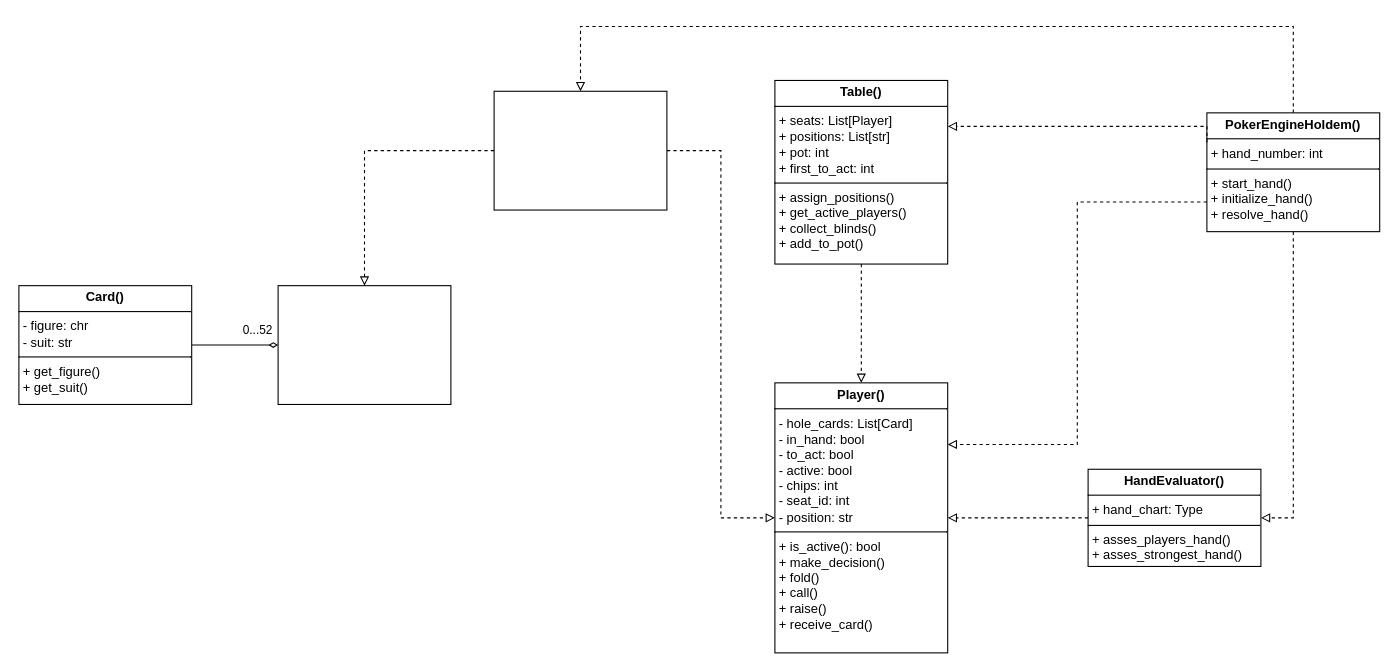
Image size: 1399x672. Some labels were removed from this diagram. The shapes that lost their labels are listed below. From the top down, each one's centre as x and y in pixels, then its label:
At point (580, 150): "Dealer() - deck: Deck() + deal_ to_player() + deal_street() + burn_card()".
At point (364, 344): "Deck() - deck: List[Card] - _generate_cards() + draw_cards(): Card + shuffle() -".
